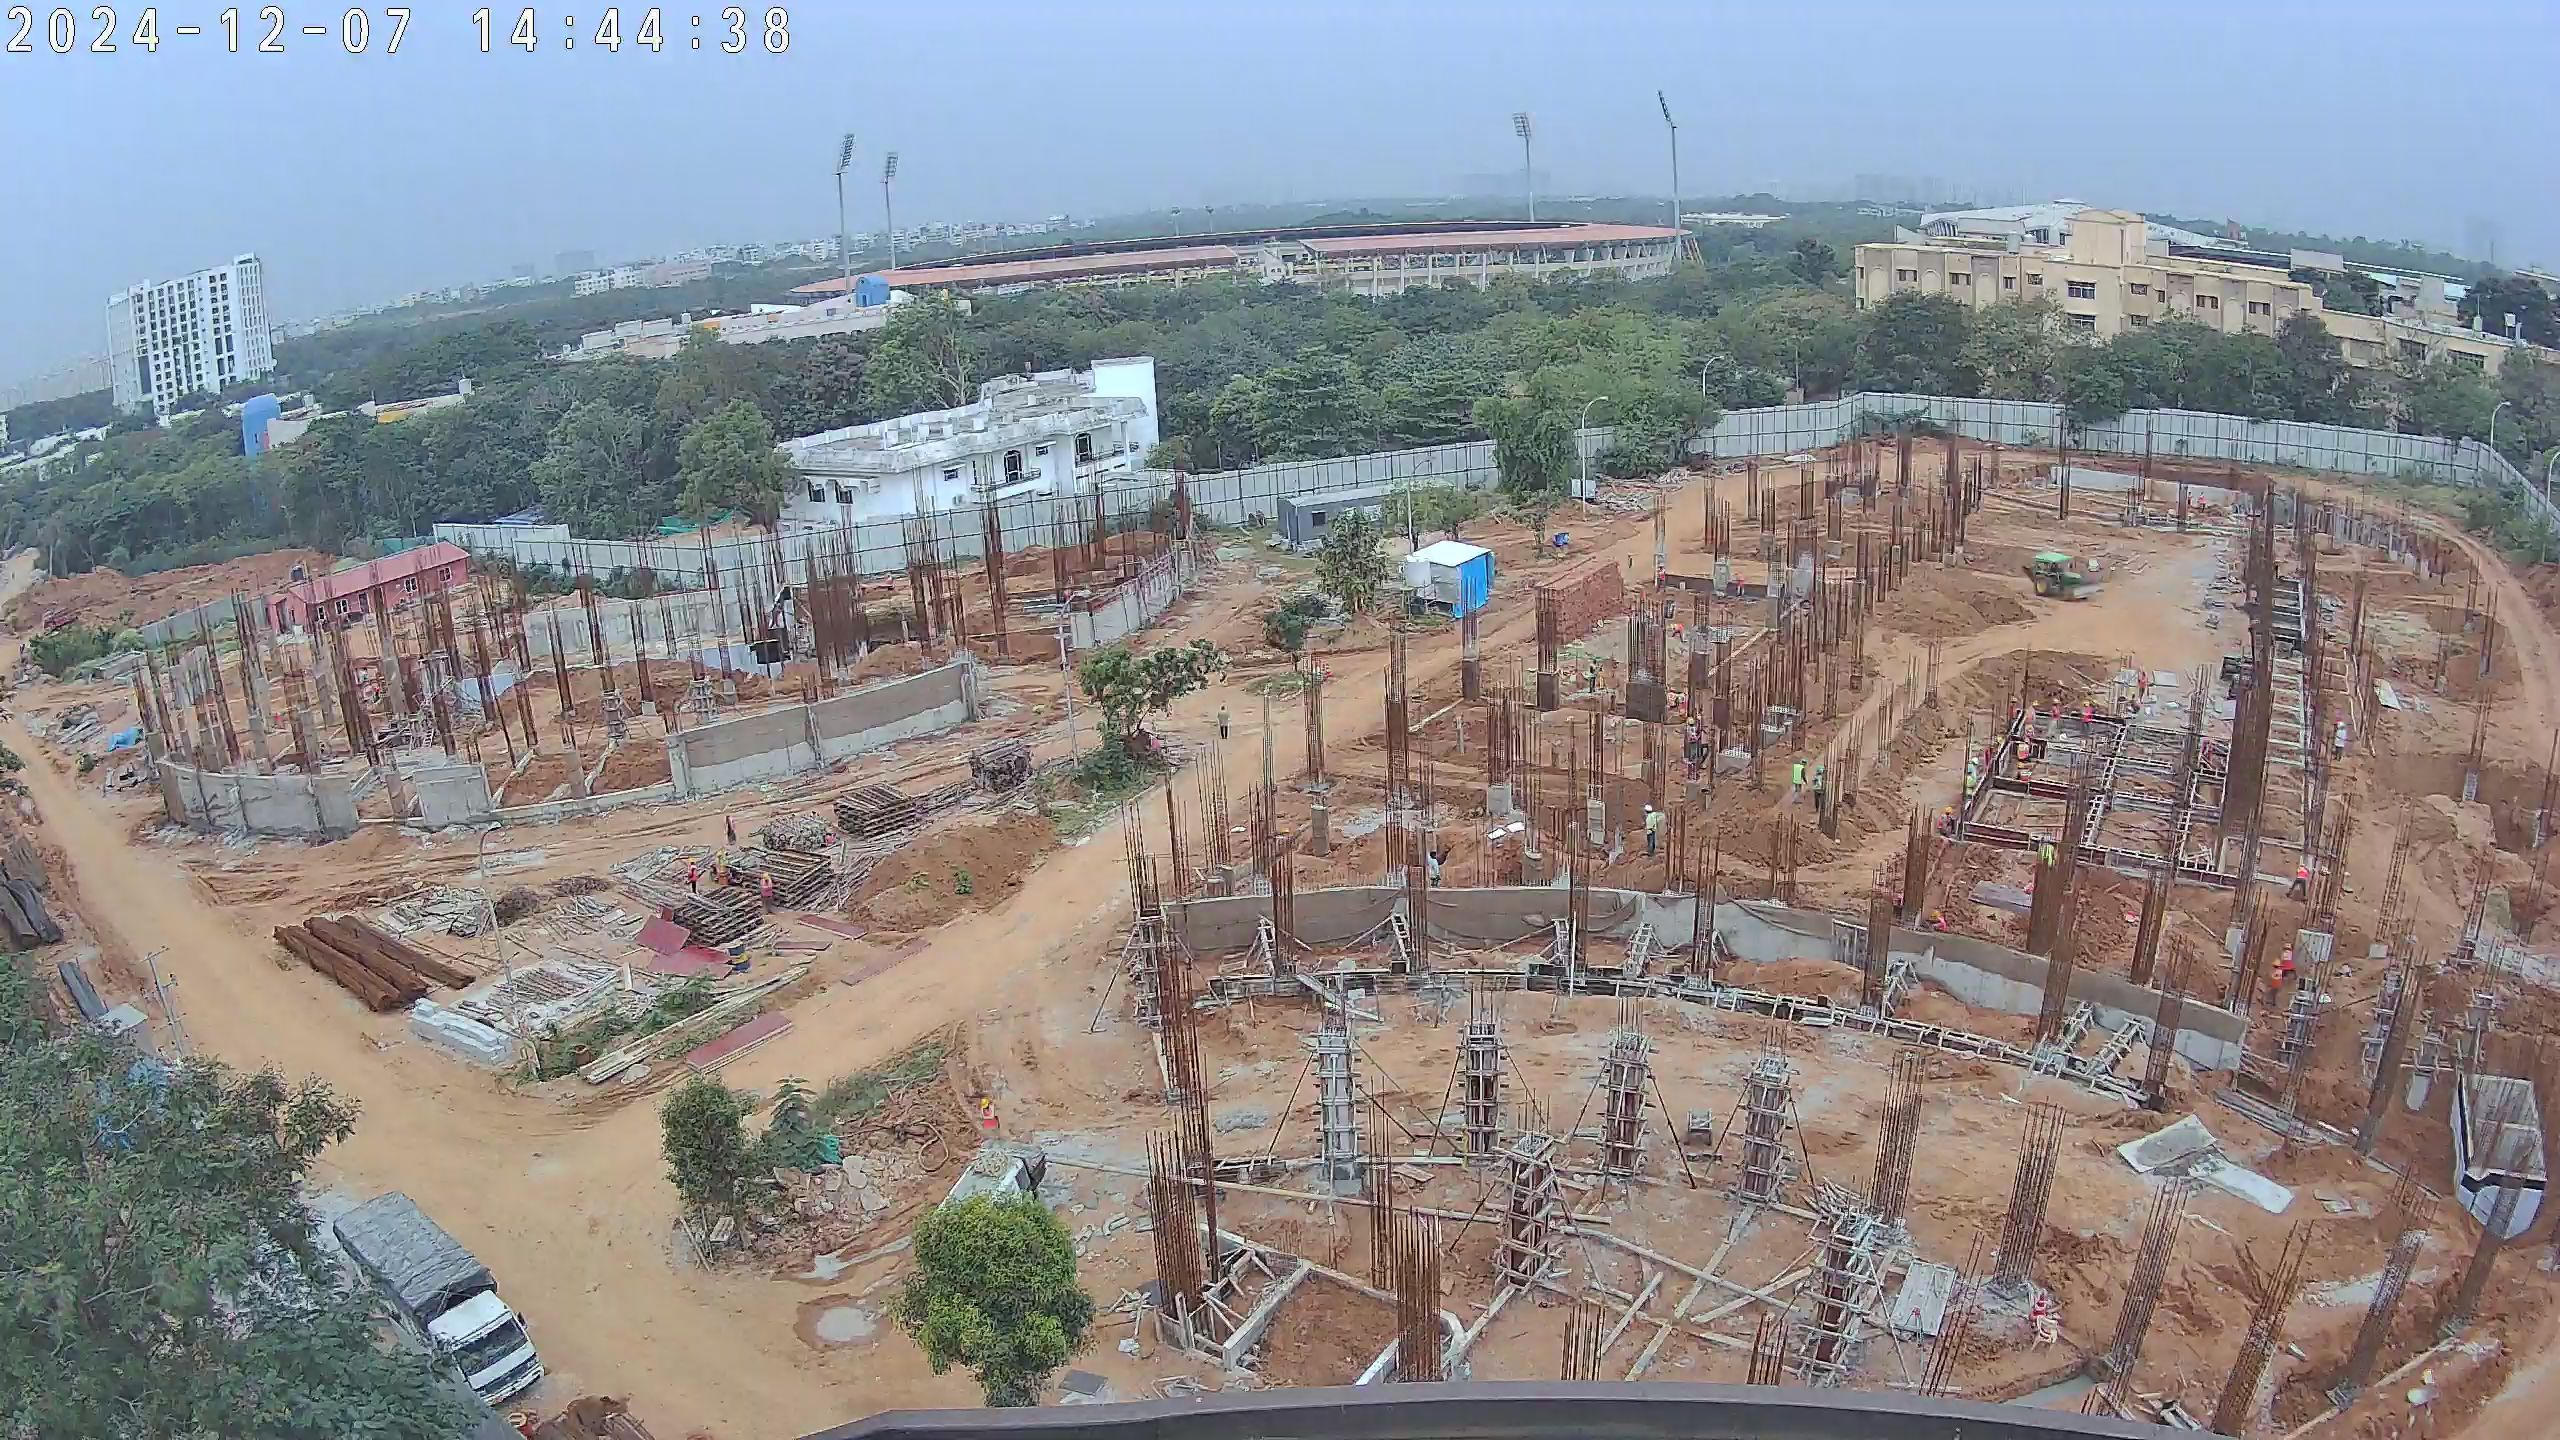bulldozer: (2027, 549, 2097, 608)
truck: (329, 1185, 549, 1408)
worker: (2030, 831, 2061, 880), (2283, 861, 2316, 907), (970, 1091, 1002, 1137), (1639, 802, 1664, 858), (2263, 958, 2289, 1011), (1679, 710, 1703, 766), (708, 849, 738, 893), (753, 868, 779, 917), (2328, 716, 2353, 764), (1787, 754, 1811, 802), (1206, 702, 1237, 739), (719, 809, 747, 849), (2277, 936, 2300, 983), (1809, 764, 1829, 817), (683, 853, 705, 901), (1932, 801, 1958, 841), (2076, 695, 2096, 744), (1580, 654, 1601, 700), (2013, 735, 2038, 773), (1925, 907, 1951, 943), (2046, 694, 2065, 741), (2132, 668, 2153, 709), (2003, 695, 2022, 738), (1666, 618, 1691, 648), (2121, 690, 2145, 721), (2020, 699, 2039, 738), (1653, 562, 1673, 598), (1731, 568, 1751, 600), (2197, 488, 2209, 516), (2182, 490, 2198, 511)
